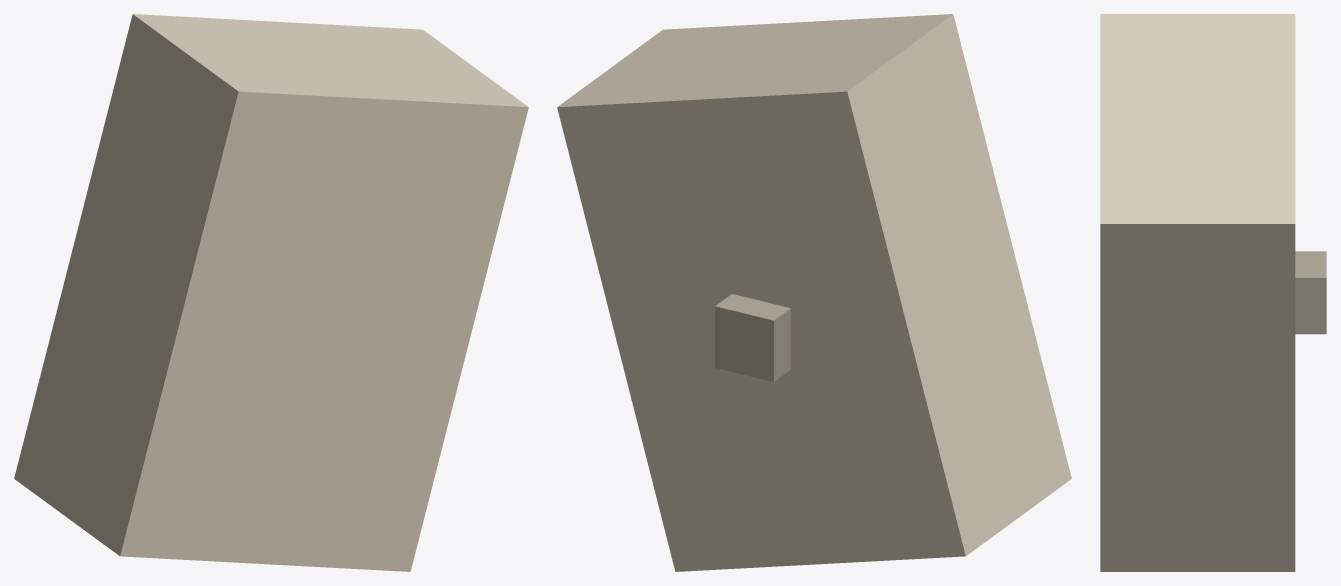
Rendered from aqaba_3512_2952.glb.
3 renders of one model, left to right at view 1: azimuth 30°, elevation 25°; view 2: azimuth 150°, elevation 25°; view 3: azimuth 270°, elevation 25°, orthographic. The views are drawn at different scales.
Visible parts, largest first — view 1: Building_; view 2: Building_, Roof access hut; view 3: Building_, Roof access hut.
Boxes of the visible parts, left/top/right/bottom form: Building_: left=14, top=14, right=528, bottom=571; Building_: left=557, top=14, right=1071, bottom=571; Roof access hut: left=715, top=294, right=790, bottom=381; Building_: left=1100, top=14, right=1295, bottom=571; Roof access hut: left=1295, top=251, right=1326, bottom=334.
Bounding box in the file's own units: 16.69 × 20.38 × 8.7.
